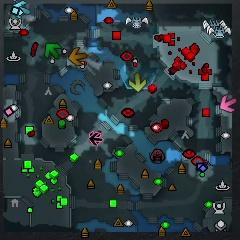x1: (219, 95, 237, 113)
x1Clone: (89, 132, 103, 146), (89, 131, 102, 146)
x2: (128, 73, 148, 92)
x3: (13, 1, 30, 17)
x4: (44, 43, 61, 60)
x5: (69, 48, 88, 67)
